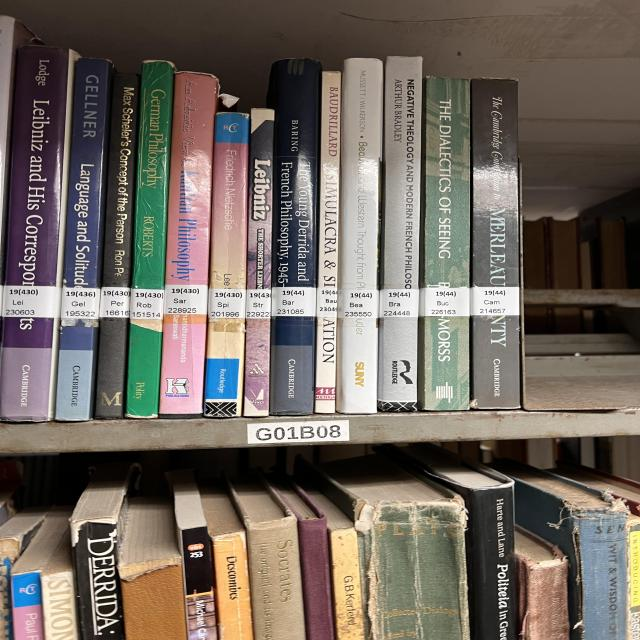Book: (297, 455, 470, 640), (0, 46, 78, 421), (382, 444, 517, 640), (492, 460, 630, 640), (55, 59, 113, 421), (158, 71, 218, 418), (267, 59, 322, 415), (125, 60, 175, 419), (418, 76, 470, 411), (472, 79, 522, 409), (337, 59, 383, 414), (378, 56, 422, 411), (95, 74, 140, 419), (203, 112, 248, 418), (228, 474, 305, 640), (70, 462, 140, 640), (267, 475, 335, 640), (118, 498, 187, 640), (303, 485, 365, 640), (315, 71, 342, 414), (243, 110, 273, 416), (165, 470, 217, 640), (200, 486, 253, 640), (12, 508, 72, 640), (0, 506, 50, 640), (515, 526, 570, 640), (548, 460, 640, 516), (42, 530, 78, 640), (627, 514, 640, 640)
Label: (3, 285, 62, 318), (470, 286, 520, 316), (420, 288, 470, 316), (163, 285, 208, 315), (272, 286, 317, 316), (60, 288, 100, 319), (338, 290, 378, 319), (208, 289, 245, 319), (380, 289, 418, 318), (130, 289, 163, 320), (100, 286, 130, 318), (245, 289, 272, 319), (317, 288, 338, 318)
